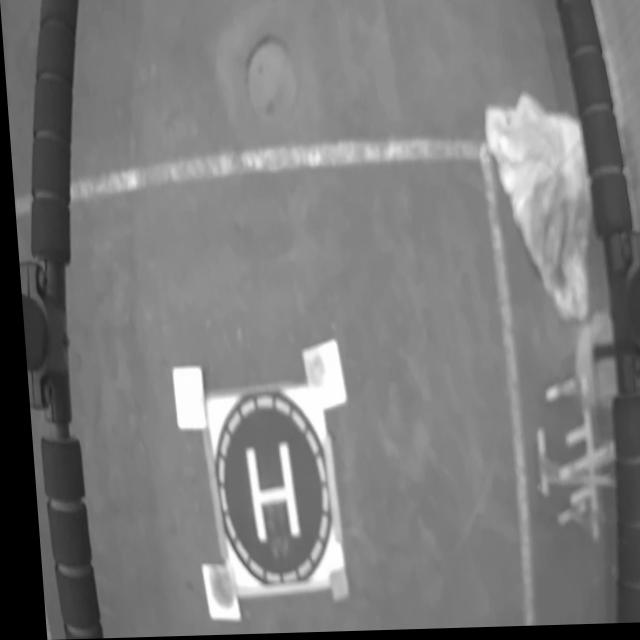Helipad: (239, 443, 294, 545)
